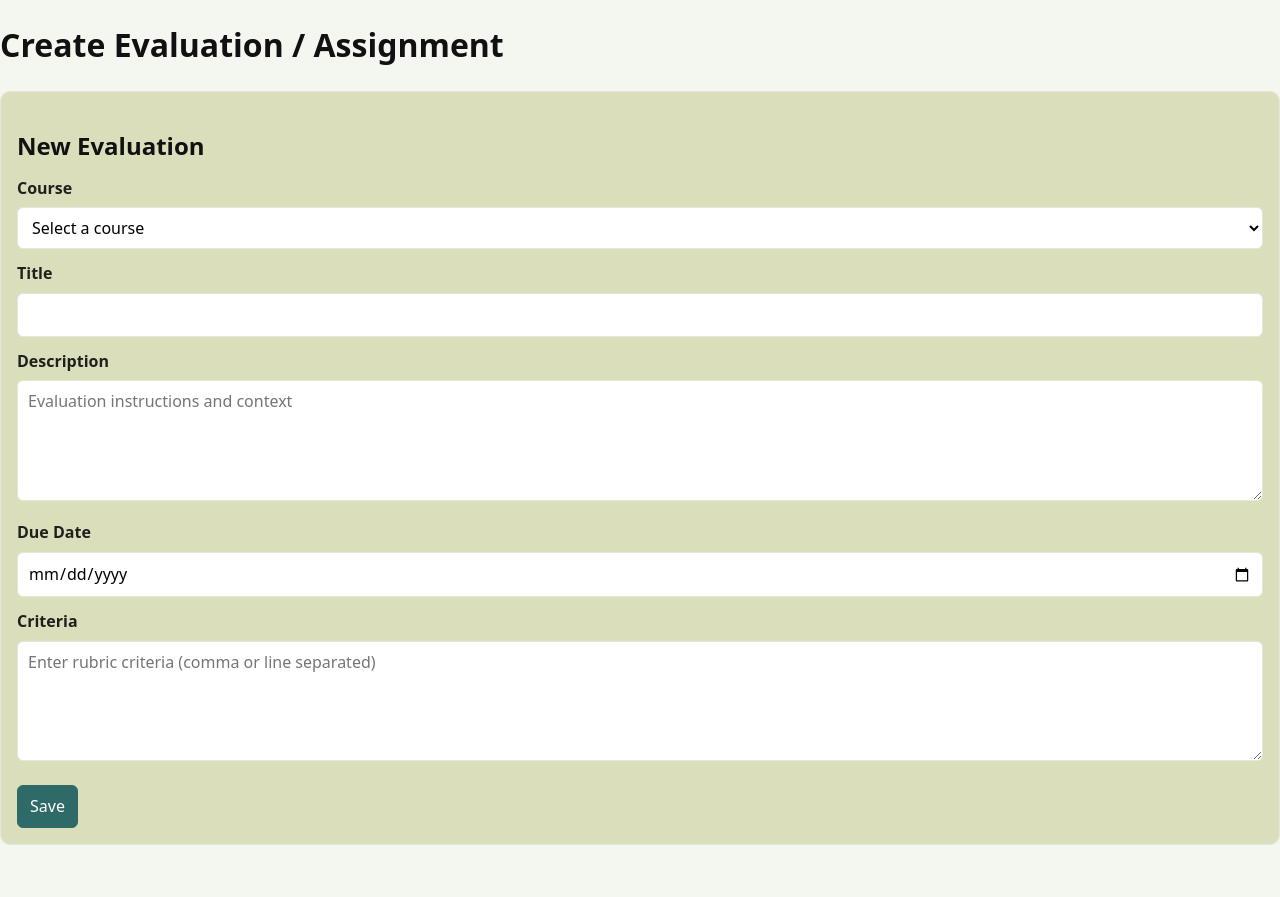
Test case: CreateEvaluation › shows validation errors when required fields are missing
The width and height of the screenshot is (1280, 897).
What coordinates should you click on to do the following:
click the button "Save"
I would click on:
 (47, 807)
Its box is [17,785,78,828].
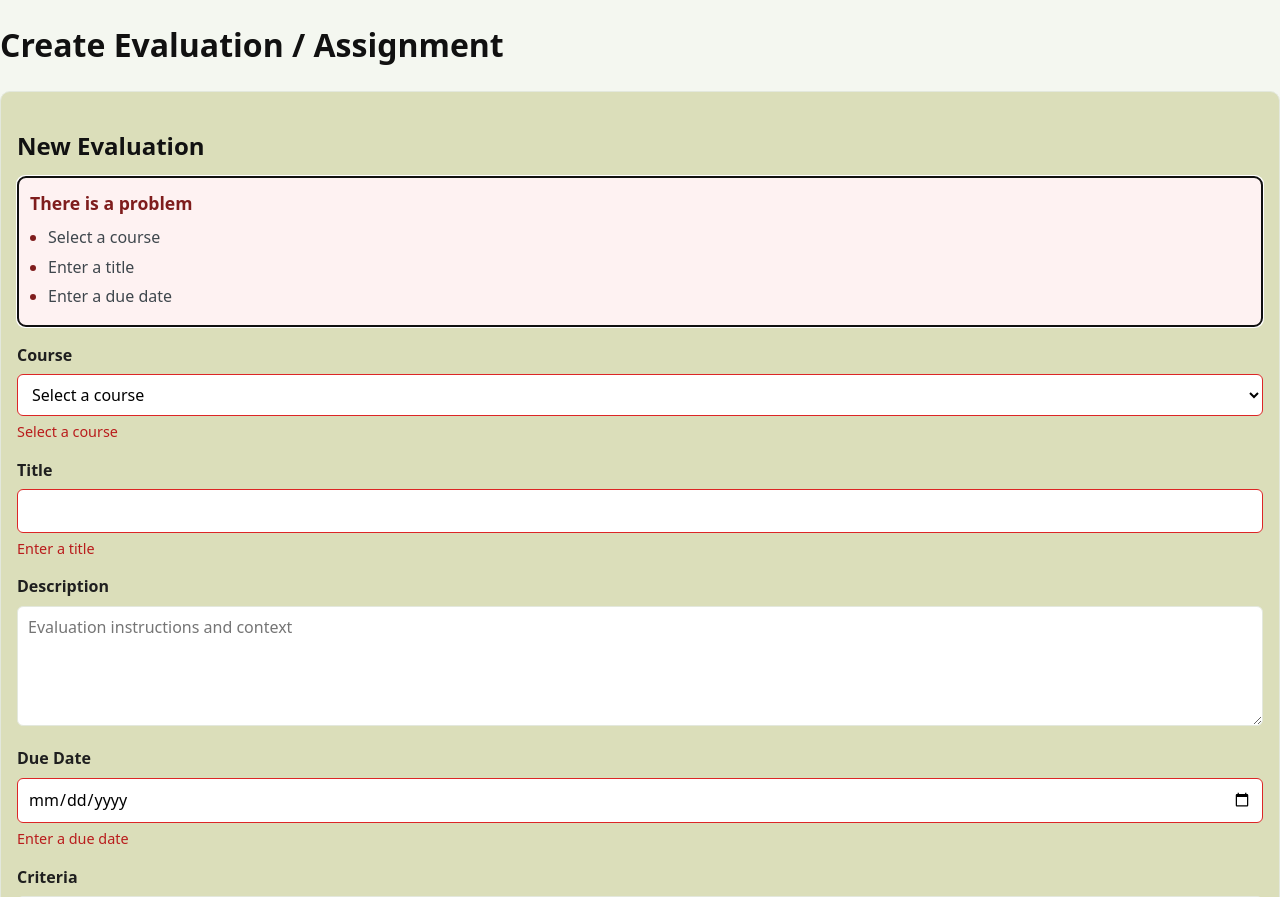
Check: the link "Select a course" is shown, box [48,226,160,248]
Check: the link "Enter a title" is shown, box [48,256,134,278]
Check: the link "Enter a due date" is shown, box [48,285,172,307]
